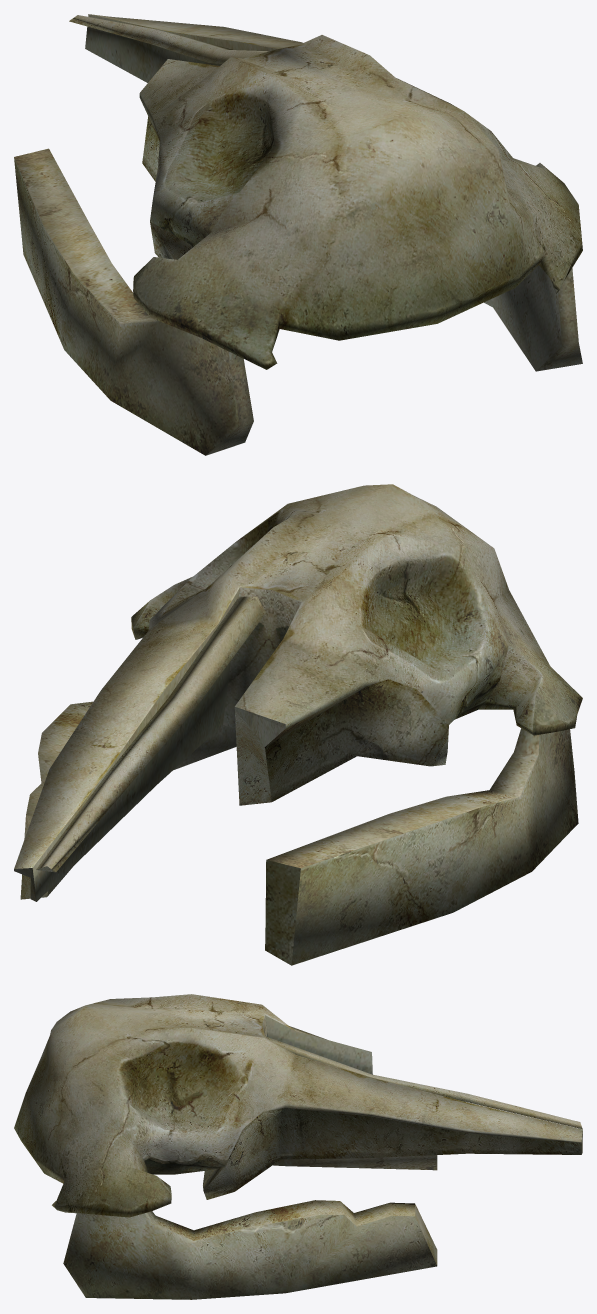
The model's file is bone_whale_head01.fbx.
3 views of the same model, one above another, from view 1: azimuth 30°, elevation 25°; view 2: azimuth 150°, elevation 25°; view 3: azimuth 270°, elevation 25° (orthographic). The views are drawn at different scales.
Visible parts, largest first — view 1: whale_bone_head01; view 2: whale_bone_head01; view 3: whale_bone_head01.
Boxes of the visible parts, x1,y1,x2,y2 form: whale_bone_head01: [14, 14, 582, 455]; whale_bone_head01: [14, 484, 582, 965]; whale_bone_head01: [14, 994, 582, 1299].
Bounding box in the file's own units: 6.93 × 4.48 × 10.57.
